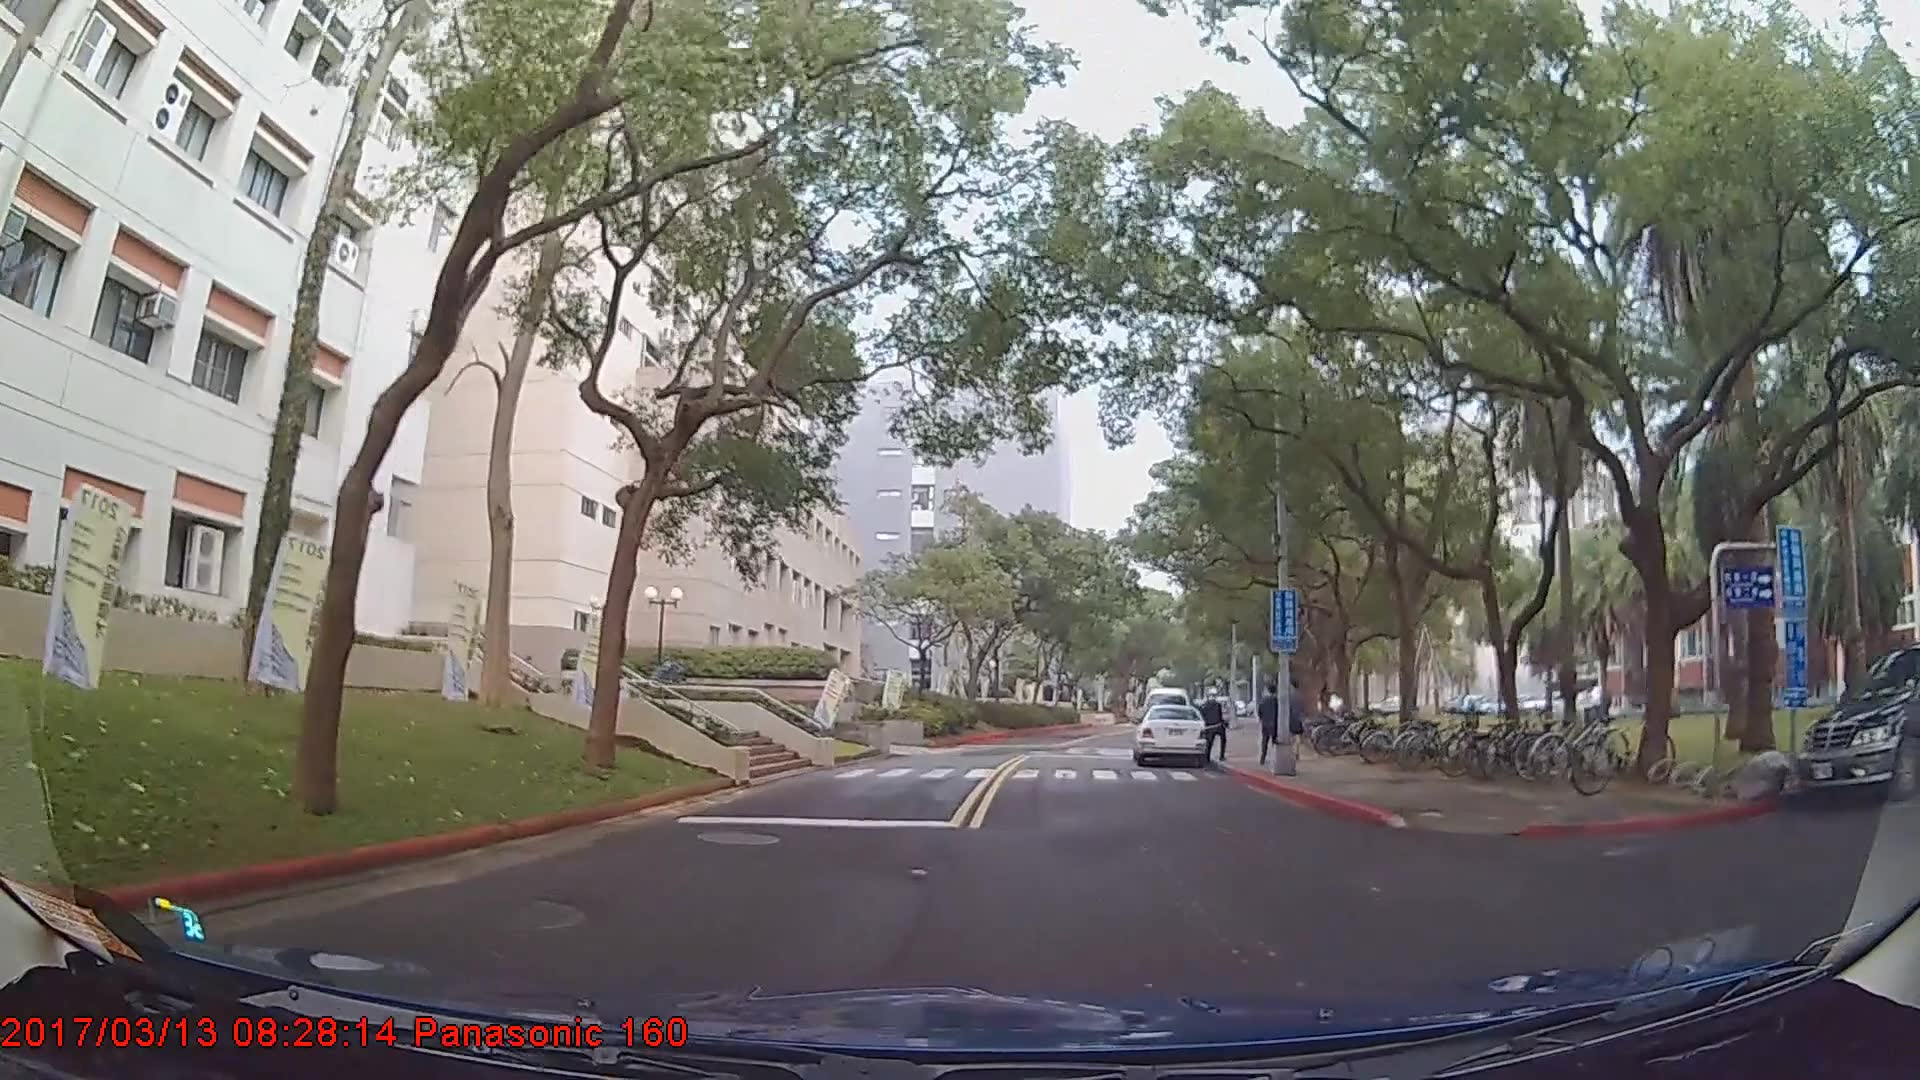pedestrian: (1257, 684, 1290, 765), (1204, 687, 1230, 763)
vehicle: (1800, 648, 1920, 802), (1131, 701, 1211, 767)
